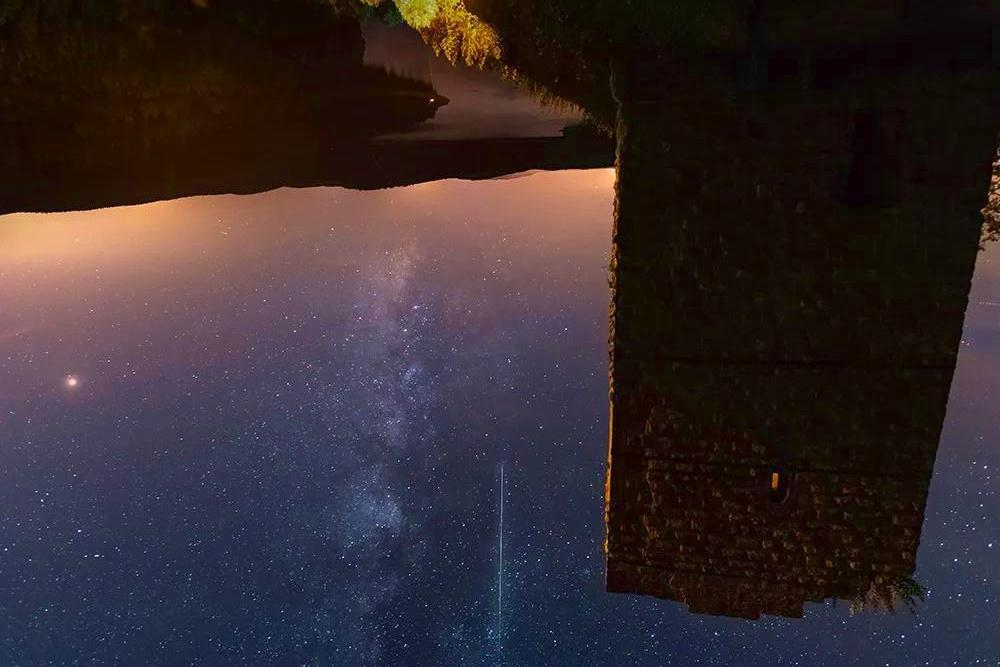meteorite: (496, 465, 510, 637)
